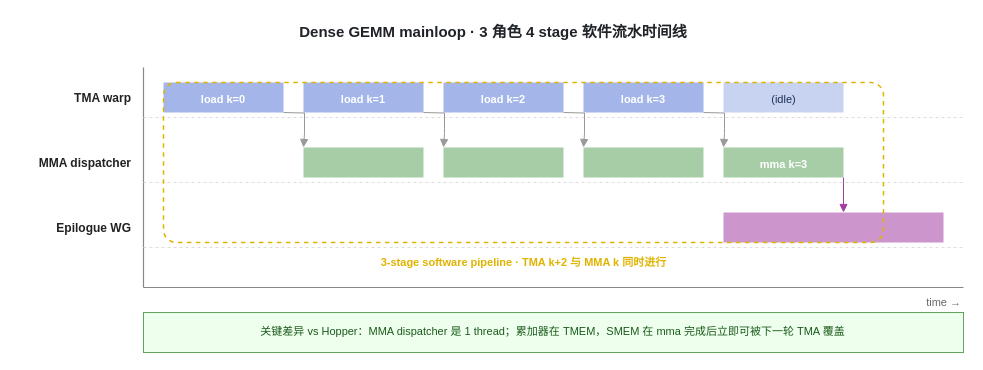
Image size: 983x370. Some labels were removed from this diagram. The shapes that lost their labels are listed below. From the top down, each one's centre as x and y in pixels, then its label:
At pixel 363 162: "mma k=0".
At pixel 503 162: "mma k=1".
At pixel 643 162: "mma k=2".
At pixel 833 227: "tcgen05.ld + 后处理 + store".
